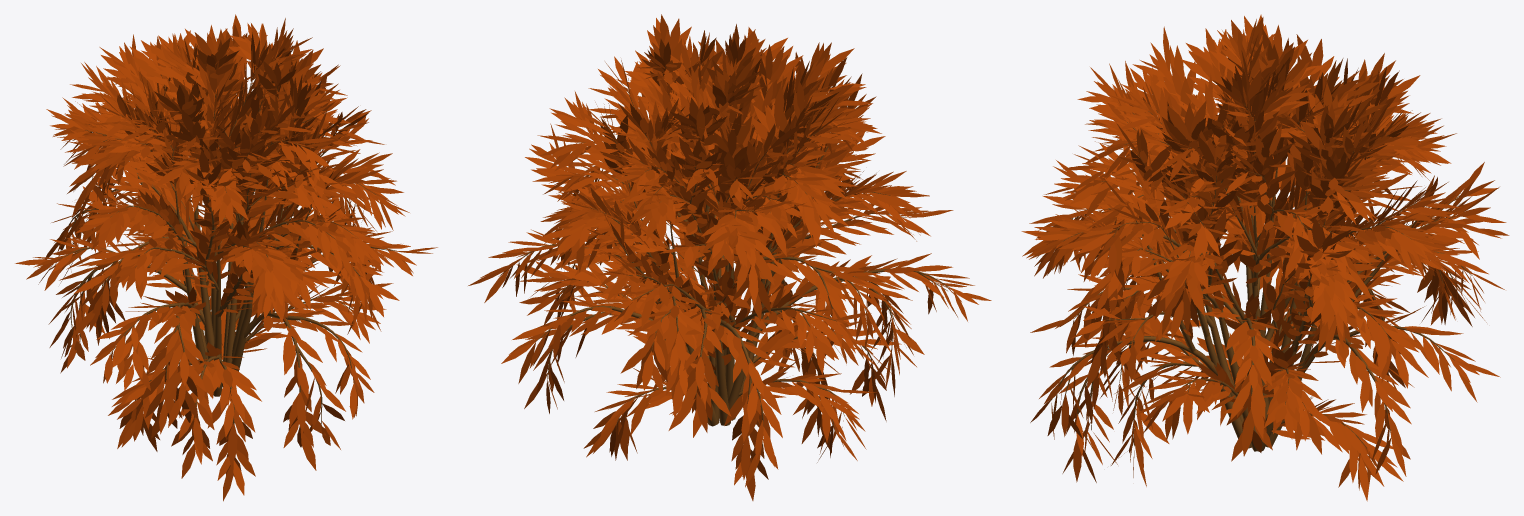
Rendered from bush3red.fbx.
3 renders of one model, left to right at view 1: azimuth 30°, elevation 25°; view 2: azimuth 150°, elevation 25°; view 3: azimuth 270°, elevation 25°, orthographic. The views are drawn at different scales.
Visible parts, largest first — view 1: leaves, tree; view 2: leaves, tree; view 3: leaves, tree.
Boxes of the visible parts, <box> form: leaves: <box>15,14,437,501</box>; tree: <box>58,54,396,428</box>; leaves: <box>468,14,991,500</box>; tree: <box>518,64,949,447</box>; leaves: <box>1021,14,1509,501</box>; tree: <box>1051,100,1472,454</box>.
Size of the model in its own units: 341 by 374 by 344.
